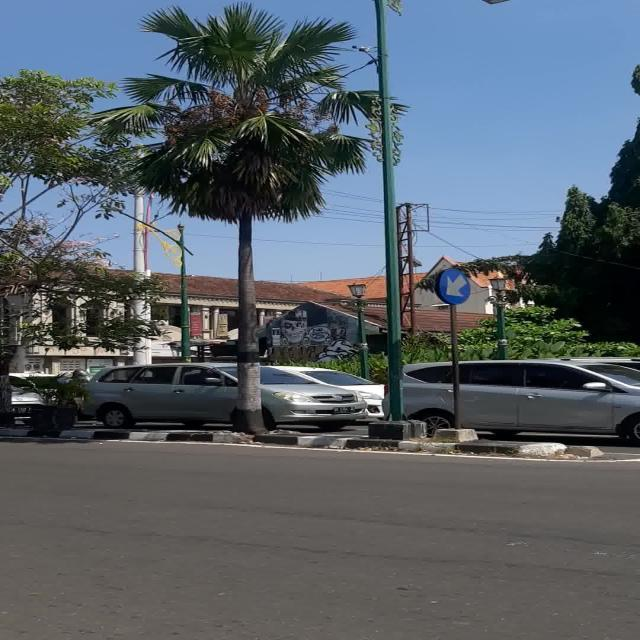Lajur Kiri: (440, 269, 470, 304)
